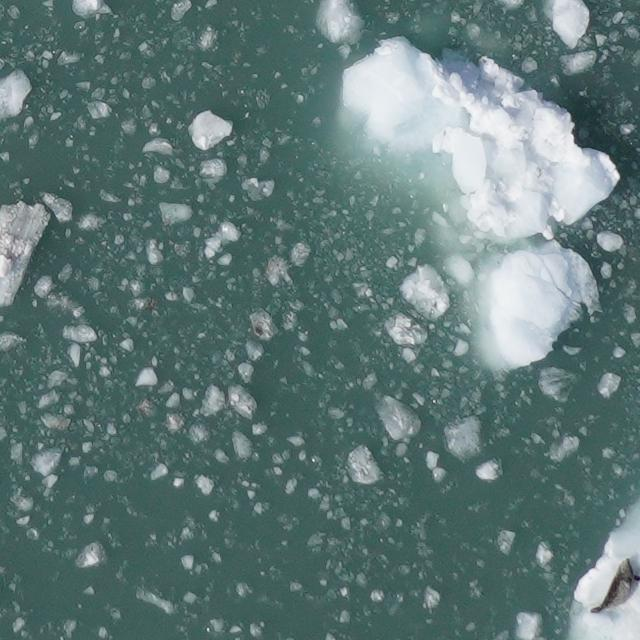seal: (587, 555, 640, 618)
